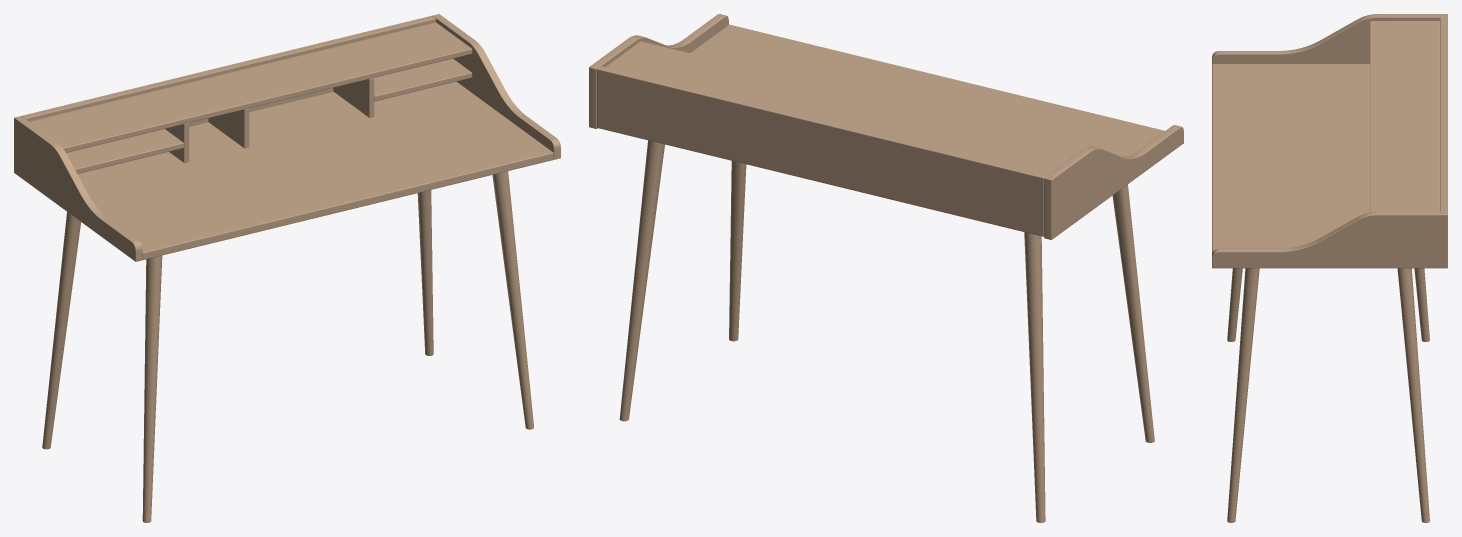
Rendered from escrivaninha.glb.
3 renders of one model, left to right at view 1: azimuth 30°, elevation 25°; view 2: azimuth 150°, elevation 25°; view 3: azimuth 270°, elevation 25°, orthographic. The views are drawn at different scales.
Visible parts, largest first — view 1: desk04-top, desk04-body, desk04-legs; view 2: desk04-body, desk04-top, desk04-legs; view 3: desk04-top, desk04-body, desk04-legs.
Part boxes in pixels (bbox=[...]): desk04-top: bbox=[29, 22, 553, 259]; desk04-body: bbox=[14, 14, 560, 261]; desk04-legs: bbox=[42, 171, 533, 522]; desk04-body: bbox=[589, 14, 1183, 239]; desk04-top: bbox=[606, 24, 1164, 174]; desk04-legs: bbox=[619, 140, 1154, 522]; desk04-top: bbox=[1212, 21, 1439, 254]; desk04-body: bbox=[1212, 14, 1447, 268]; desk04-legs: bbox=[1227, 268, 1429, 522].
Size of the model in its own units: 1.21 by 0.8889 by 0.6.
